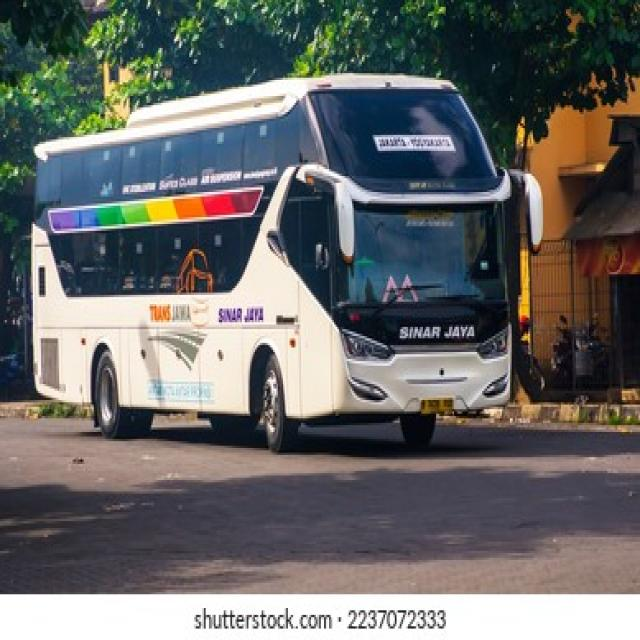bus: (28, 73, 541, 455)
